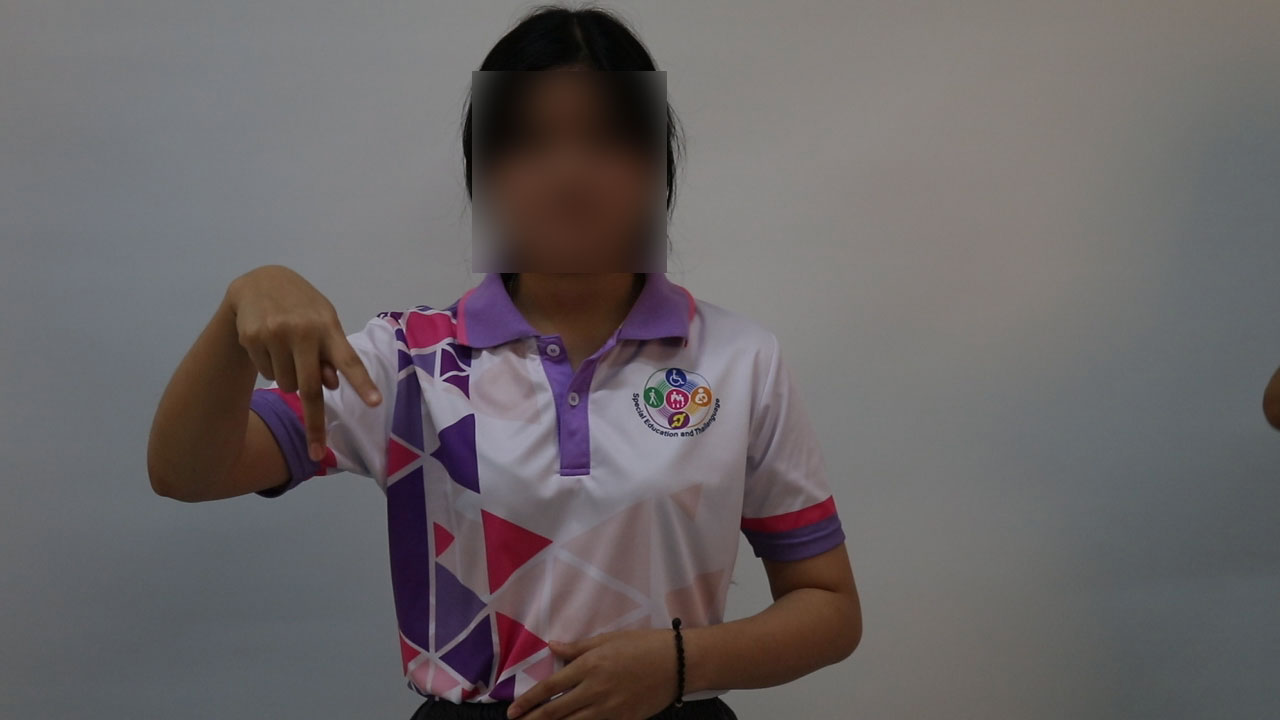por: (215, 250, 394, 473)
